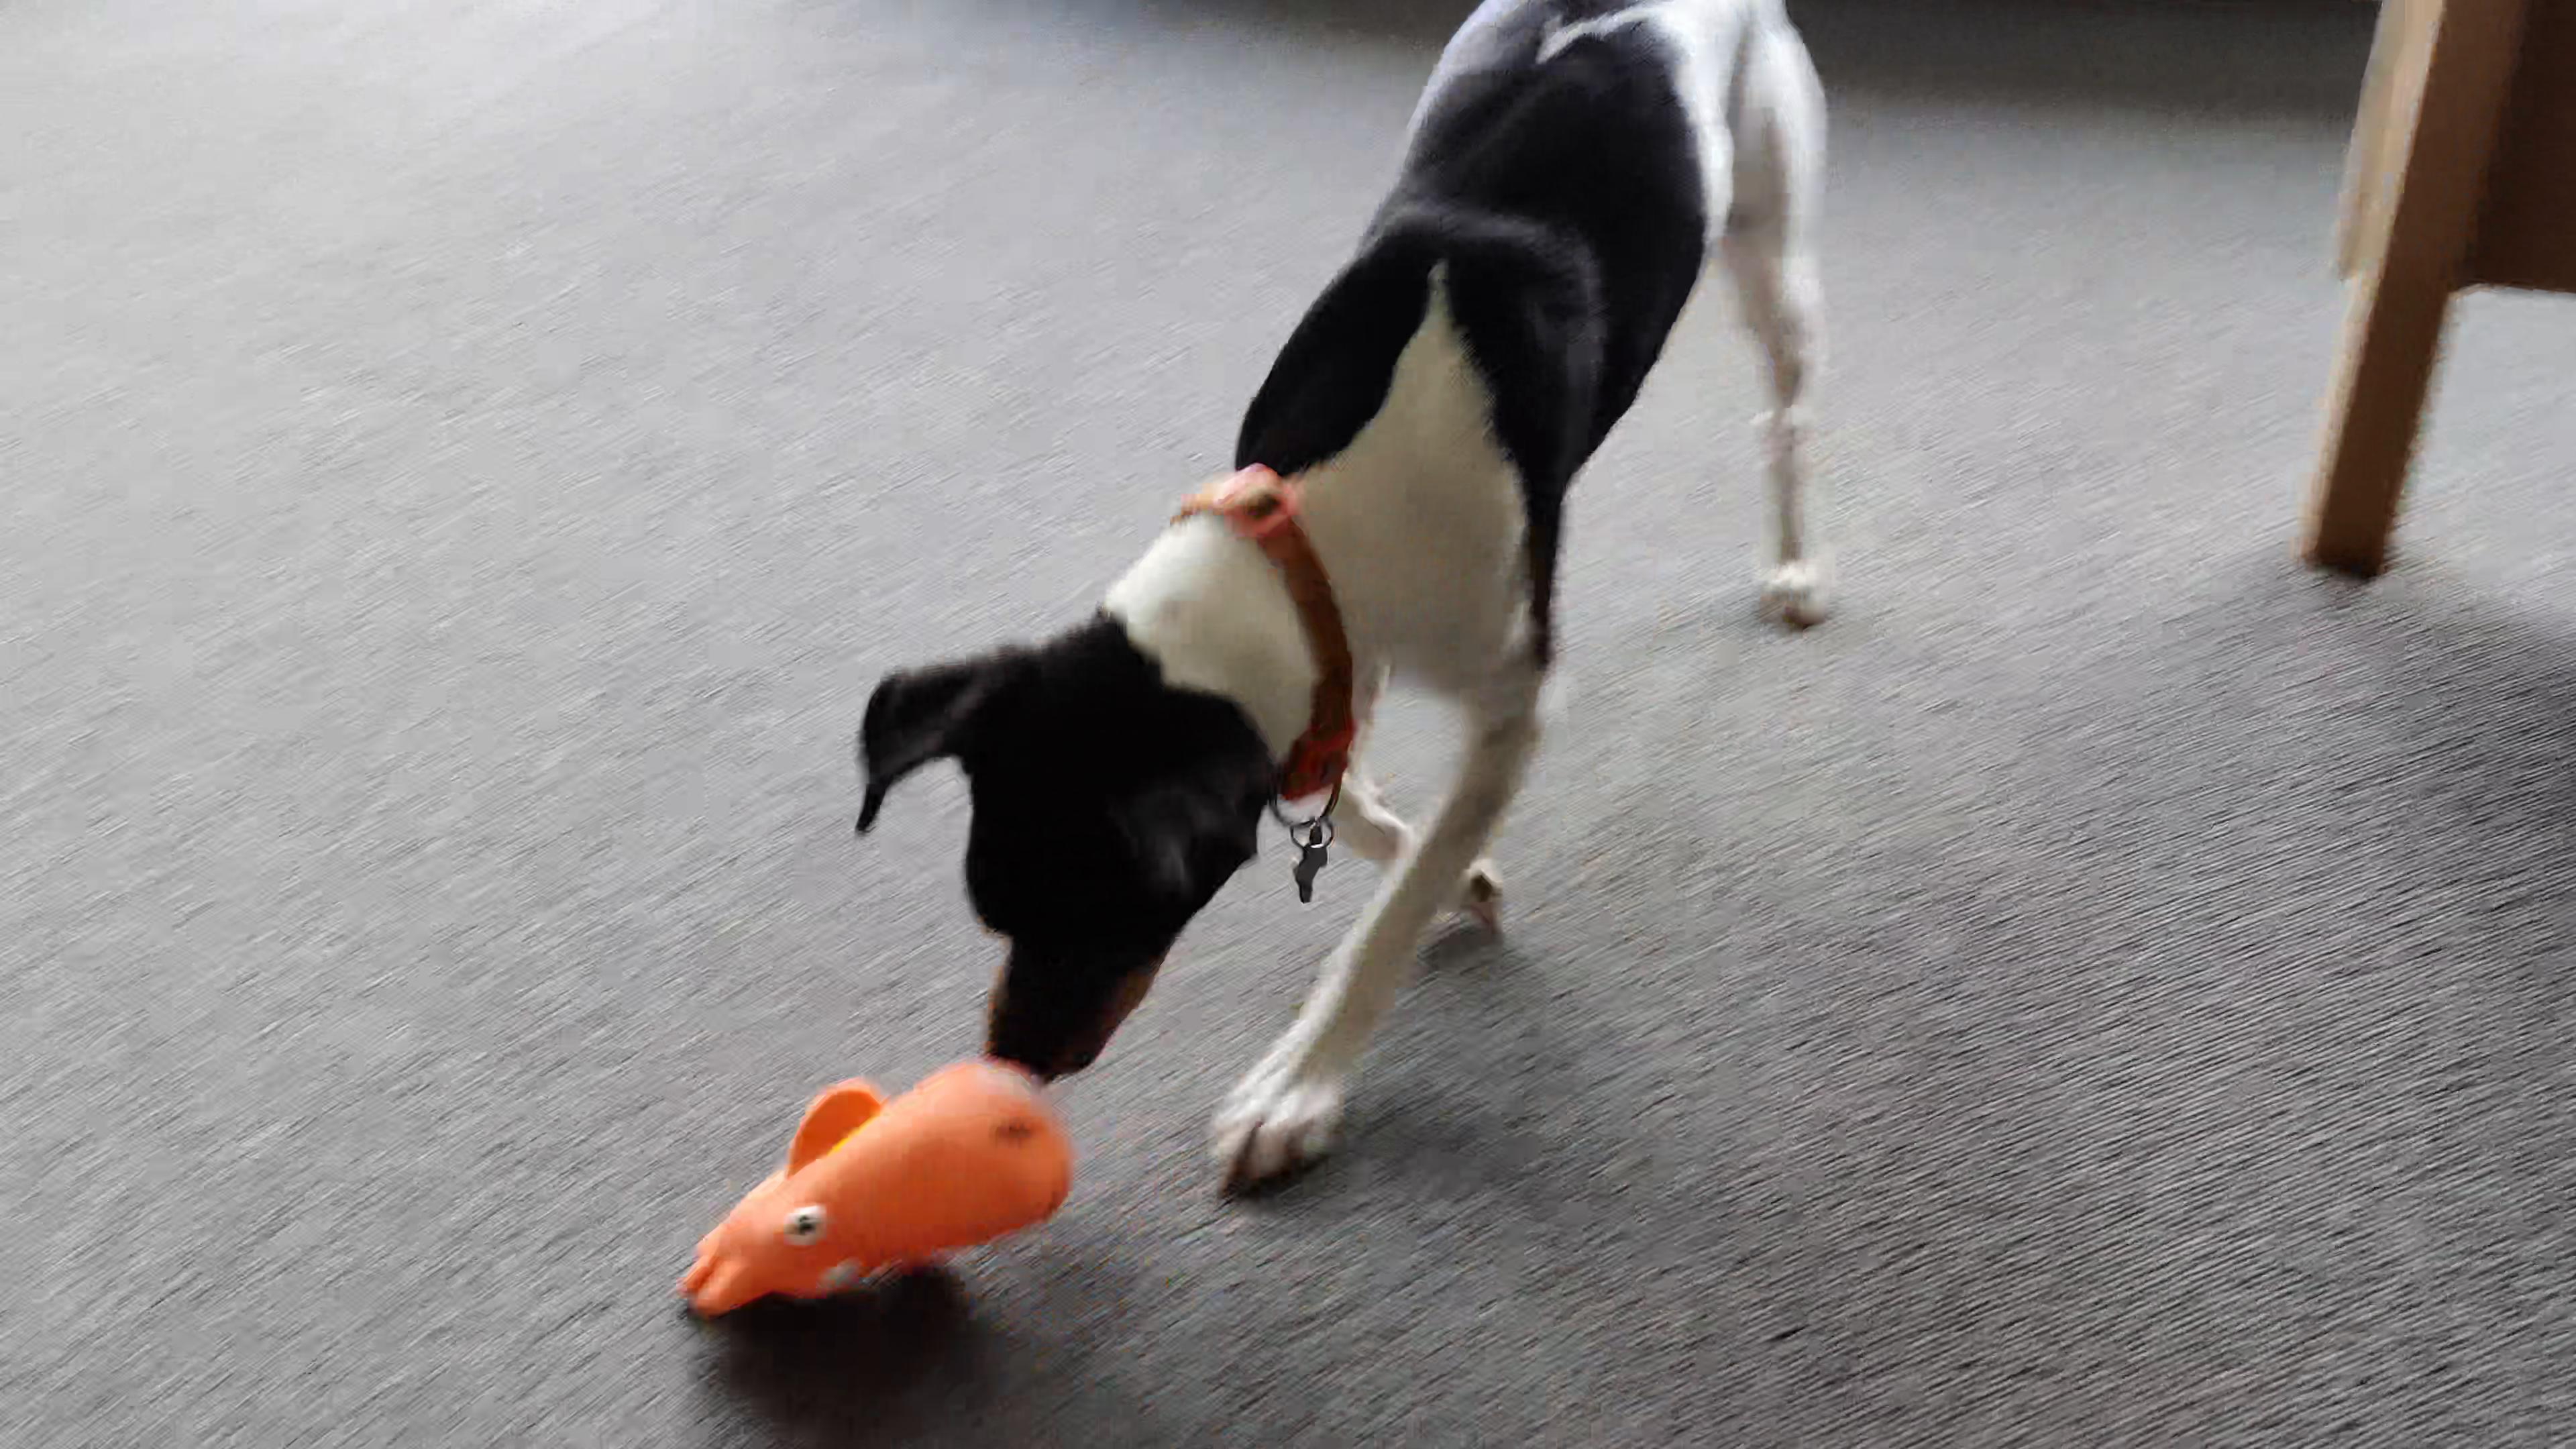Dog: (839, 0, 1867, 1219)
